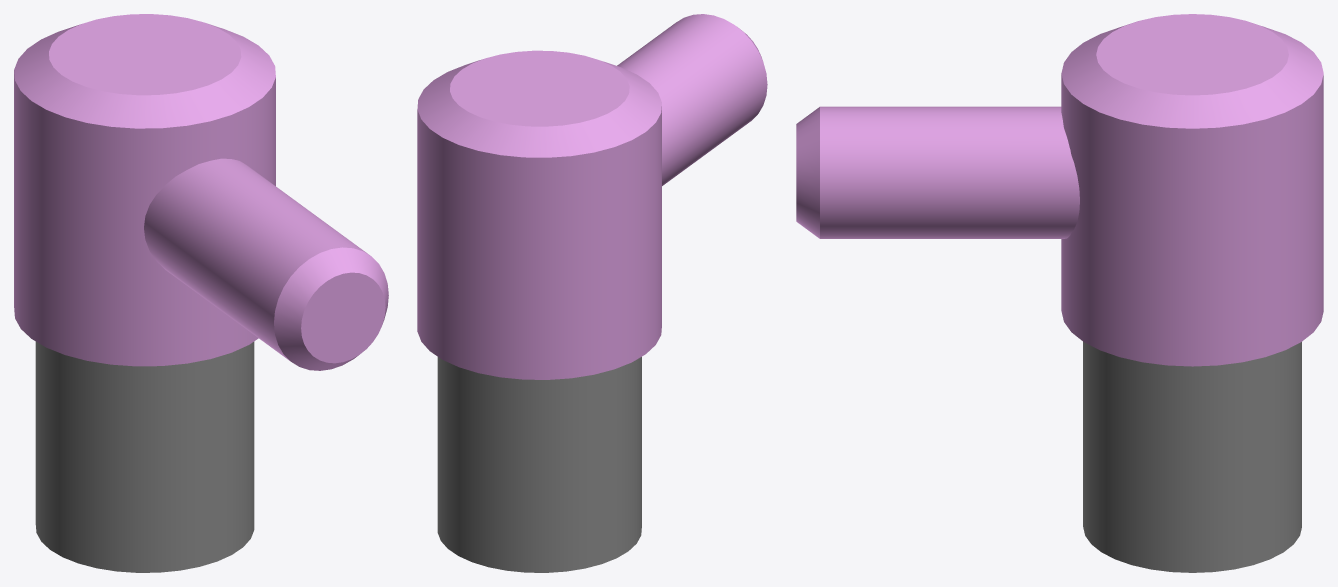
Rendered from SM_Shampoo_Cover_B.fbx.
The picture shows the model from 3 angles, left to right: view 1: azimuth 30°, elevation 25°; view 2: azimuth 150°, elevation 25°; view 3: azimuth 270°, elevation 25°; orthographic projection. The views are drawn at different scales.
Visible parts, largest first — view 1: Cylinder.008, Cylinder.006, Cylinder.009; view 2: Cylinder.008, Cylinder.006, Cylinder.009; view 3: Cylinder.008, Cylinder.006, Cylinder.009.
Boxes of the visible parts, box(x1,y1,x2,y2) form: Cylinder.008: box(14, 14, 275, 366); Cylinder.006: box(35, 341, 254, 572); Cylinder.009: box(144, 158, 388, 370); Cylinder.008: box(417, 50, 661, 379); Cylinder.006: box(437, 357, 641, 572); Cylinder.009: box(617, 14, 767, 185); Cylinder.008: box(1061, 14, 1323, 366); Cylinder.006: box(1083, 342, 1301, 572); Cylinder.009: box(796, 106, 1079, 238).
Bounding box in the file's own units: 14.95 × 29.69 × 30.07.
